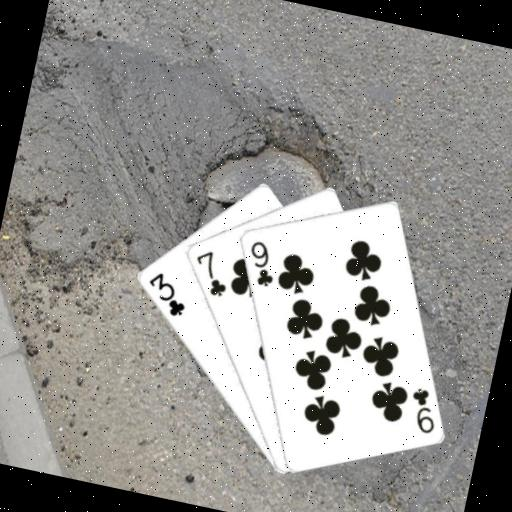3C: (139, 267, 193, 320)
7C: (185, 244, 234, 300)
9C: (240, 235, 282, 289), (401, 382, 443, 436)
